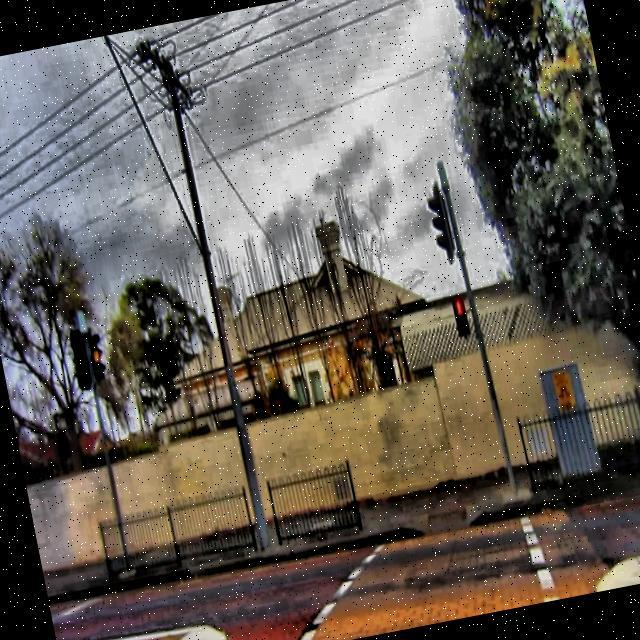red_light: (454, 296, 466, 317)
